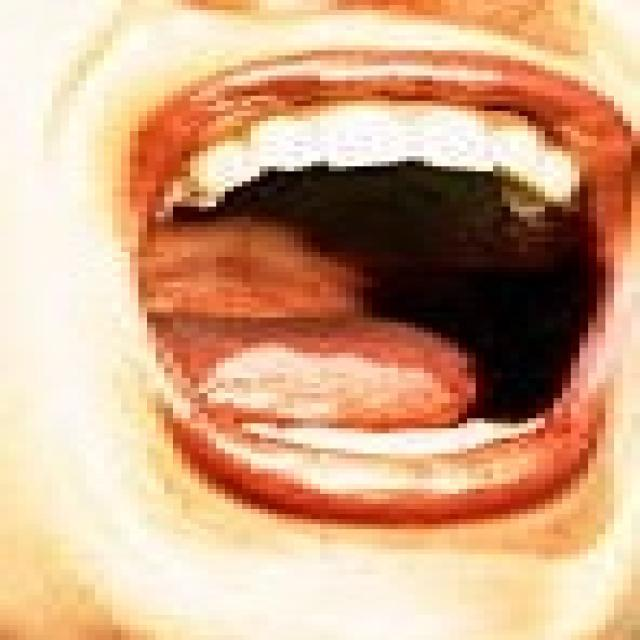open-mouth: (113, 40, 632, 524)
